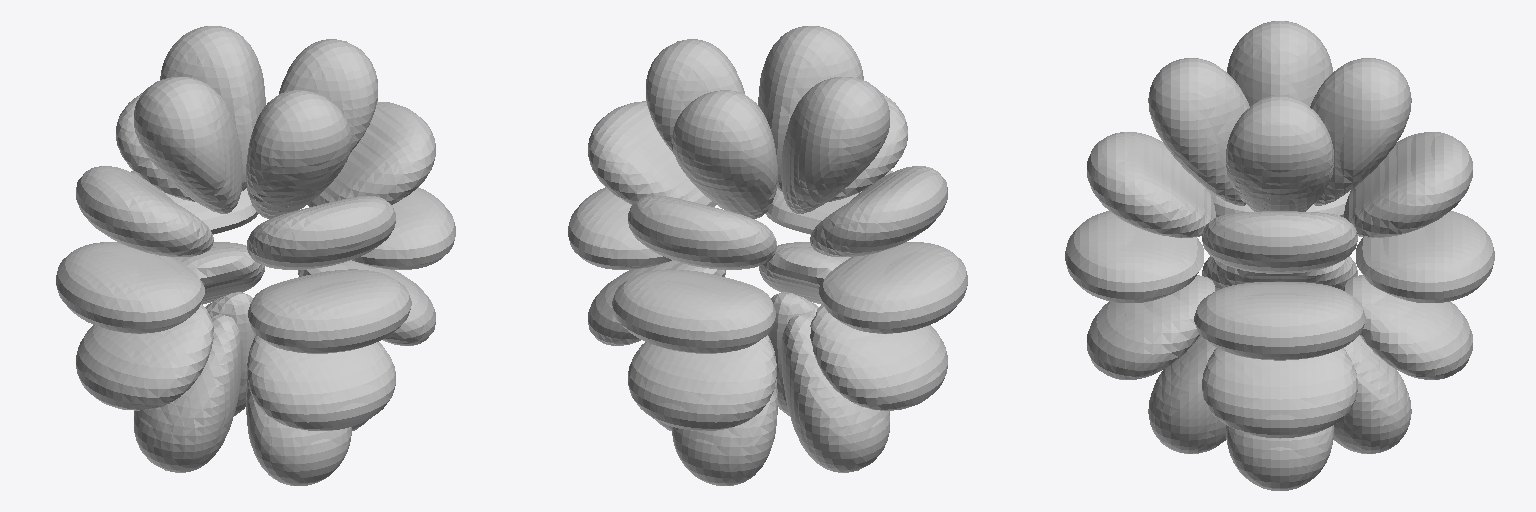
The model's file is orb_n=7_ l=6 _m=2.obj.
3 renders of one model, left to right at view 1: azimuth 30°, elevation 25°; view 2: azimuth 150°, elevation 25°; view 3: azimuth 270°, elevation 25°, orthographic.
Visible parts, largest first — view 1: orb_n=7__l=6__m=2; view 2: orb_n=7__l=6__m=2; view 3: orb_n=7__l=6__m=2.
Part boxes in pixels (left/top/right/bottom): orb_n=7__l=6__m=2: left=56, top=26, right=455, bottom=485; orb_n=7__l=6__m=2: left=568, top=26, right=967, bottom=485; orb_n=7__l=6__m=2: left=1065, top=21, right=1494, bottom=490.
Size of the model in its own units: 158 by 157 by 158.